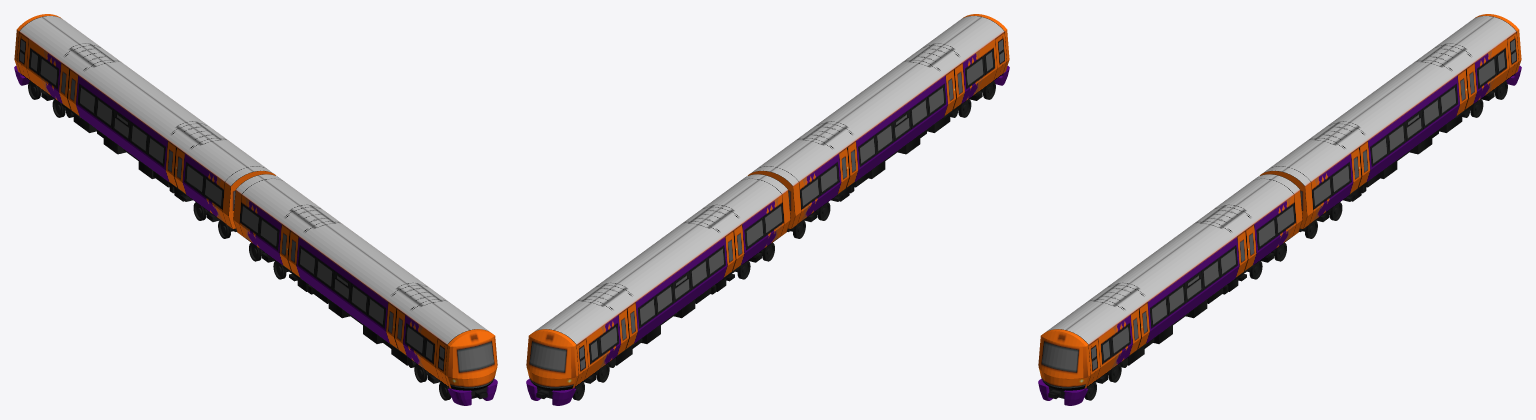
Rendered from Class172_2.fbx.
The picture shows the model from 3 angles, left to right: view 1: azimuth 30°, elevation 25°; view 2: azimuth 150°, elevation 25°; view 3: azimuth 330°, elevation 25°; orthographic projection.
Parts seen in each view (by area): view 1: Body, Body.001, Head, undercarriage.001, undercarriage, Link.001; view 2: Body.001, Body, Head.001, undercarriage, undercarriage.001, Link; view 3: Body, Body.001, Head, undercarriage.001, undercarriage, Link.001.
Part boxes in pixels (bbox=[...]): Body: bbox=[233, 174, 489, 386]; Body.001: bbox=[17, 16, 273, 228]; Head: bbox=[445, 329, 497, 405]; undercarriage.001: bbox=[28, 81, 236, 238]; undercarriage: bbox=[249, 243, 451, 400]; Link.001: bbox=[228, 171, 276, 228]; Body.001: bbox=[534, 174, 790, 386]; Body: bbox=[750, 16, 1006, 228]; Head.001: bbox=[526, 329, 578, 405]; undercarriage: bbox=[787, 81, 995, 238]; undercarriage.001: bbox=[572, 243, 774, 400]; Link: bbox=[747, 171, 795, 228]; Body: bbox=[1046, 174, 1302, 386]; Body.001: bbox=[1262, 16, 1518, 228]; Head: bbox=[1038, 329, 1090, 405]; undercarriage.001: bbox=[1299, 81, 1507, 238]; undercarriage: bbox=[1084, 243, 1286, 400]; Link.001: bbox=[1259, 171, 1307, 228].
Bounding box in the file's own units: 269 × 369 × 4249.
1 material, 1 textured.
